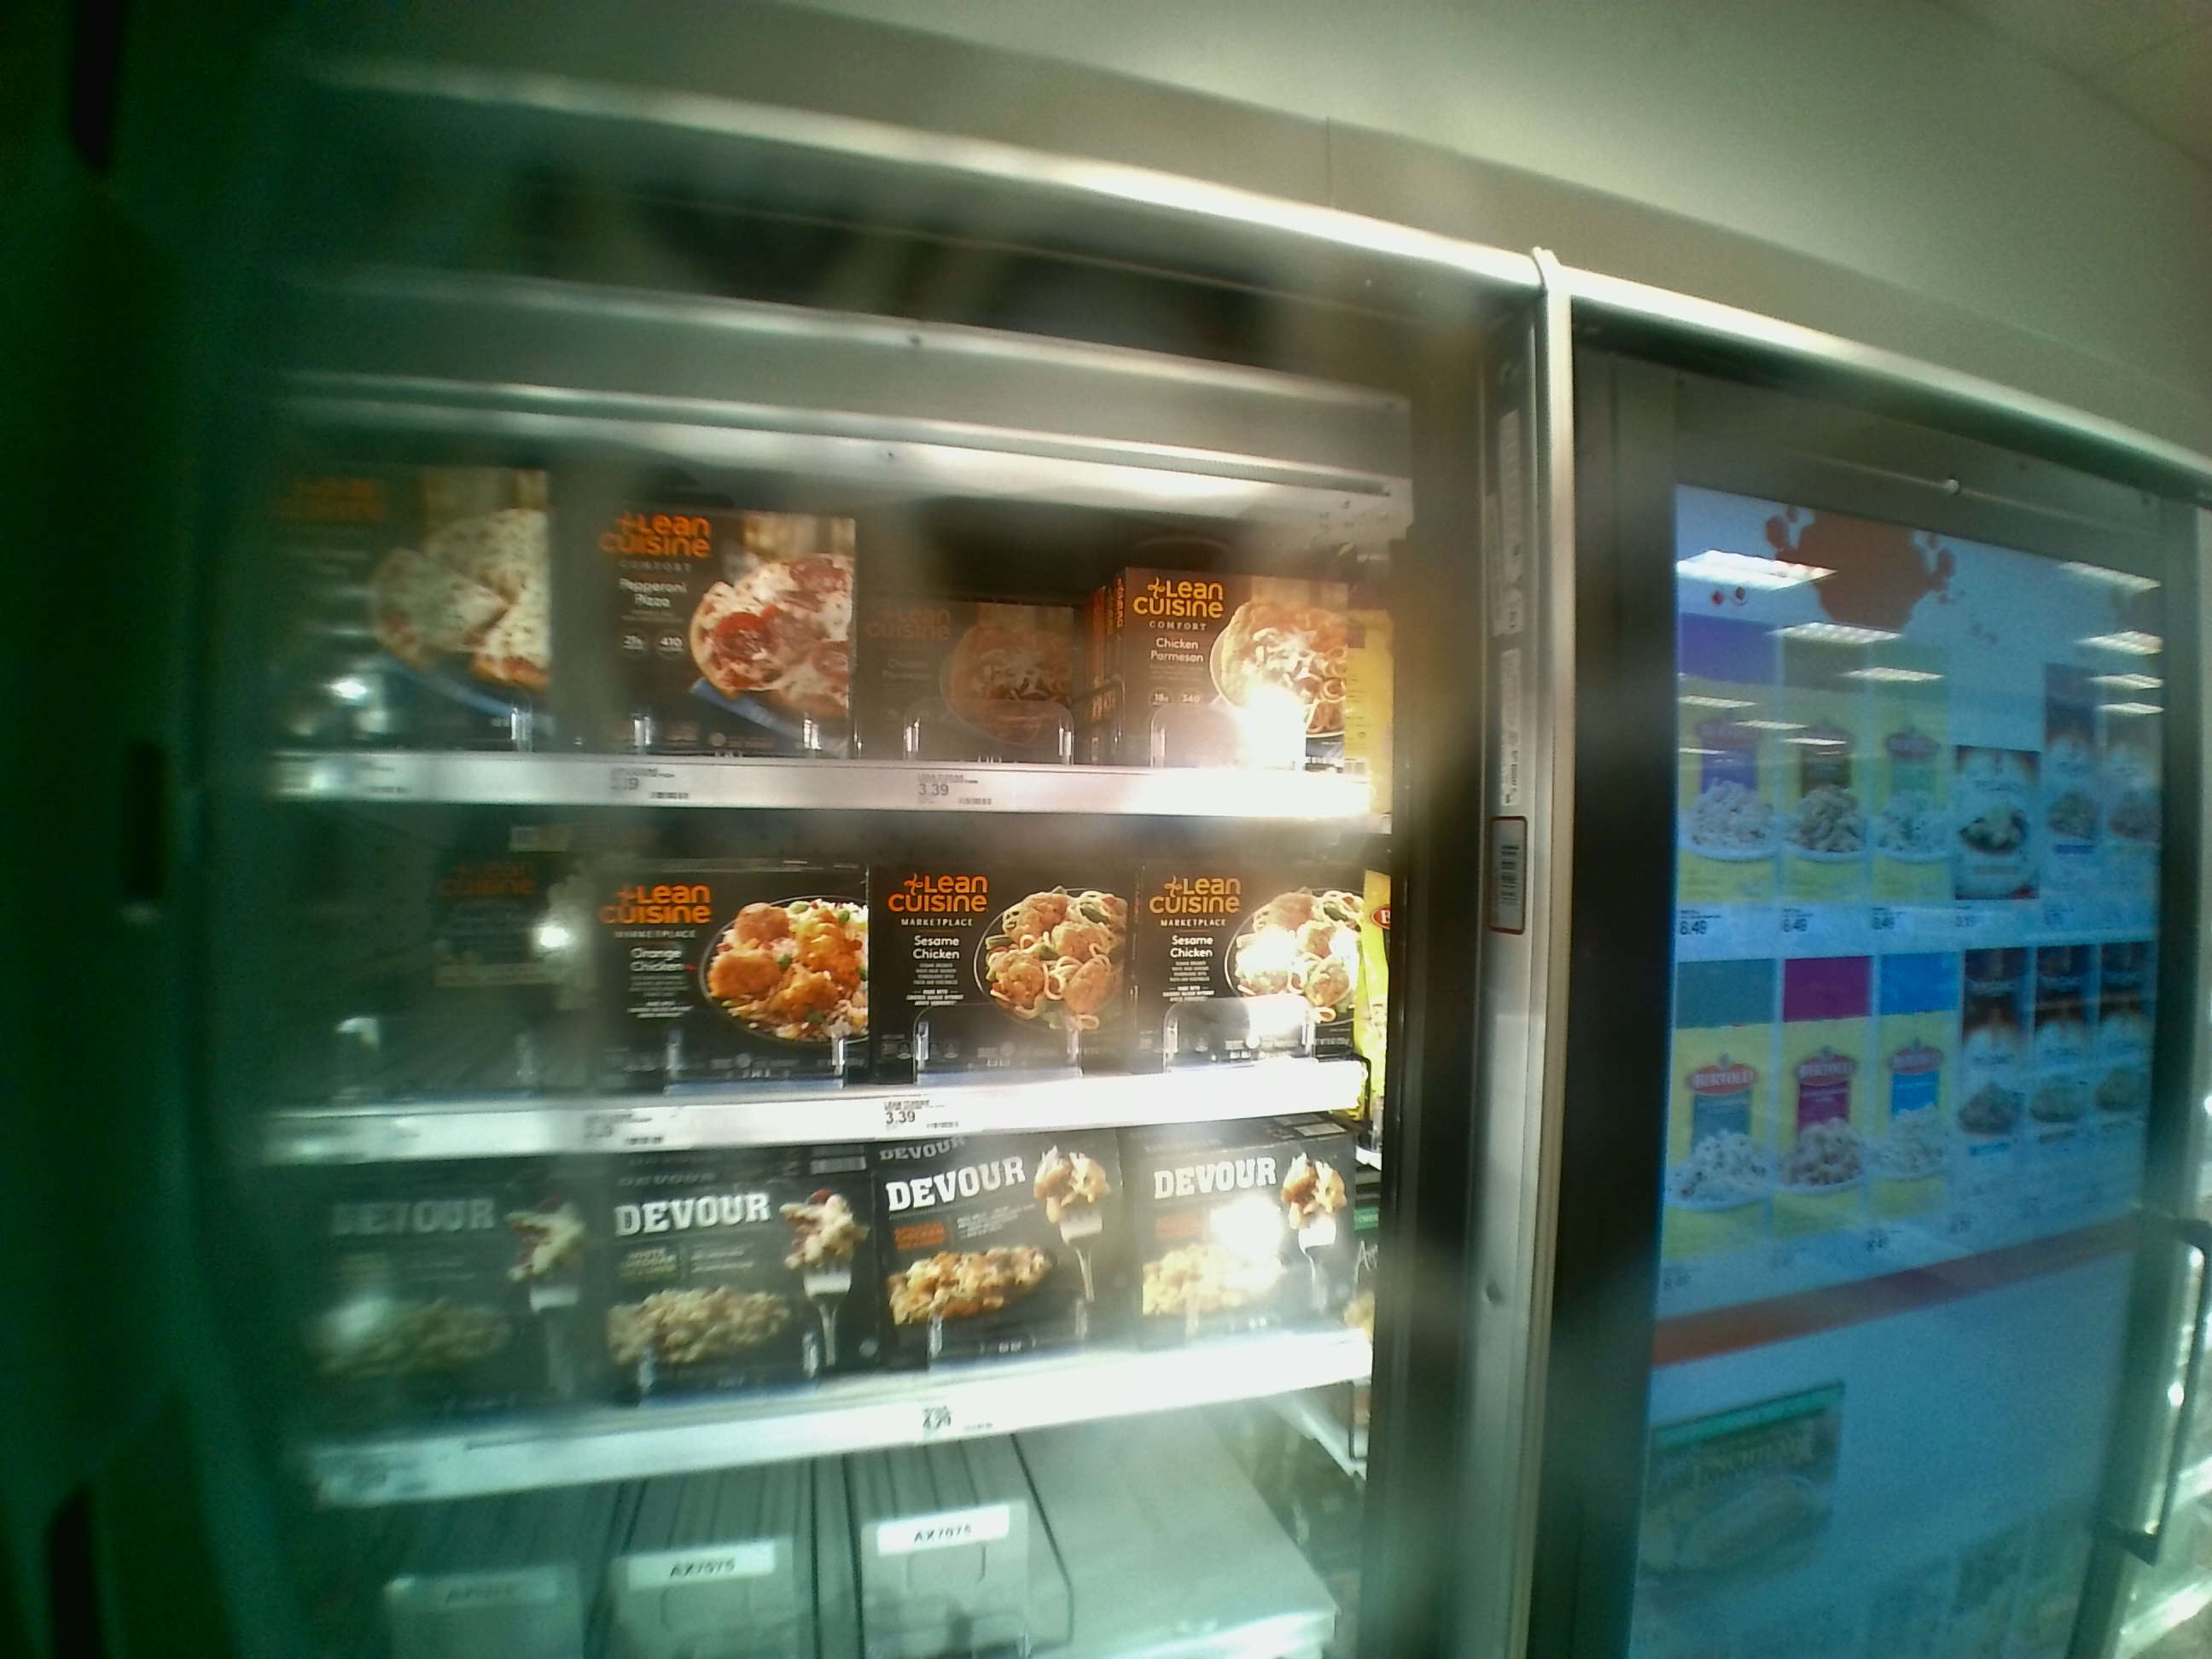shelf: (254, 396, 1393, 823), (265, 798, 1388, 1171)
